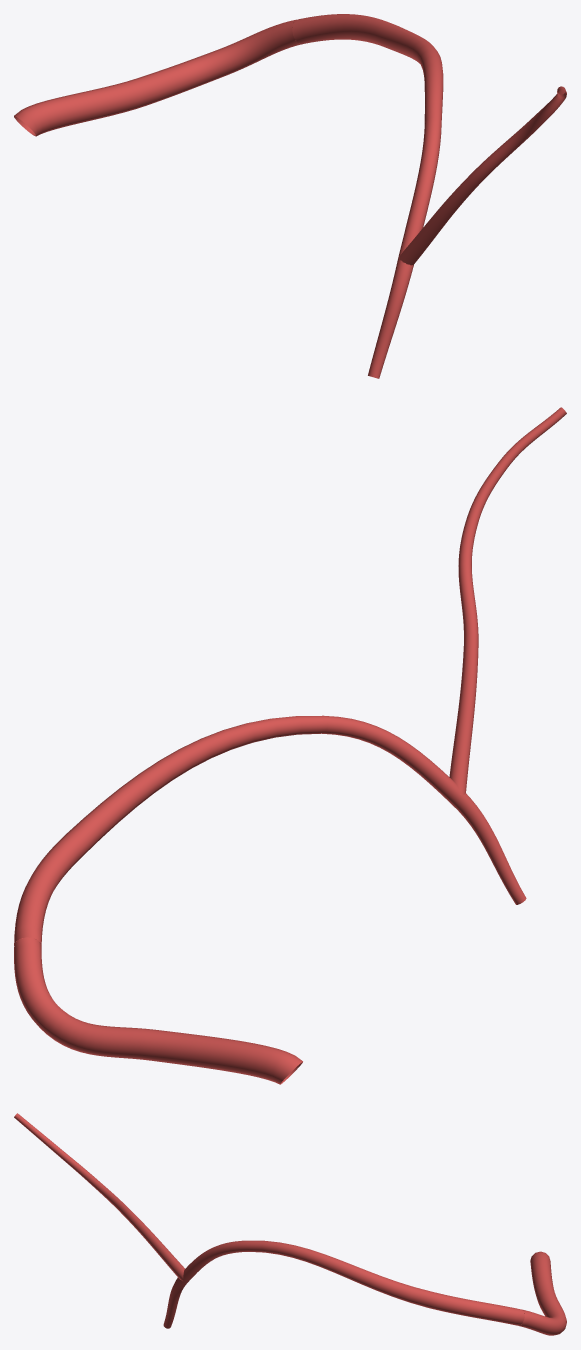
3 views of the same model, one above another, from view 1: azimuth 30°, elevation 25°; view 2: azimuth 150°, elevation 25°; view 3: azimuth 270°, elevation 25° (orthographic). The views are drawn at different scales.
Visible parts, largest first — view 1: 左侧颈横动脉; view 2: 左侧颈横动脉; view 3: 左侧颈横动脉.
Boxes of the visible parts, x1,y1,x2,y2 form: 左侧颈横动脉: [14, 14, 566, 378]; 左侧颈横动脉: [14, 407, 566, 1084]; 左侧颈横动脉: [14, 1113, 566, 1335].
Size of the model in its own units: 0.0303 by 0.0342 by 0.0718.
